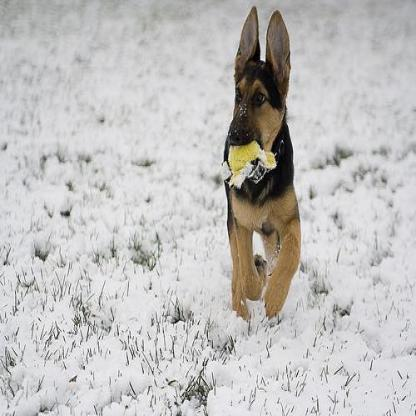dog: (222, 4, 300, 330)
